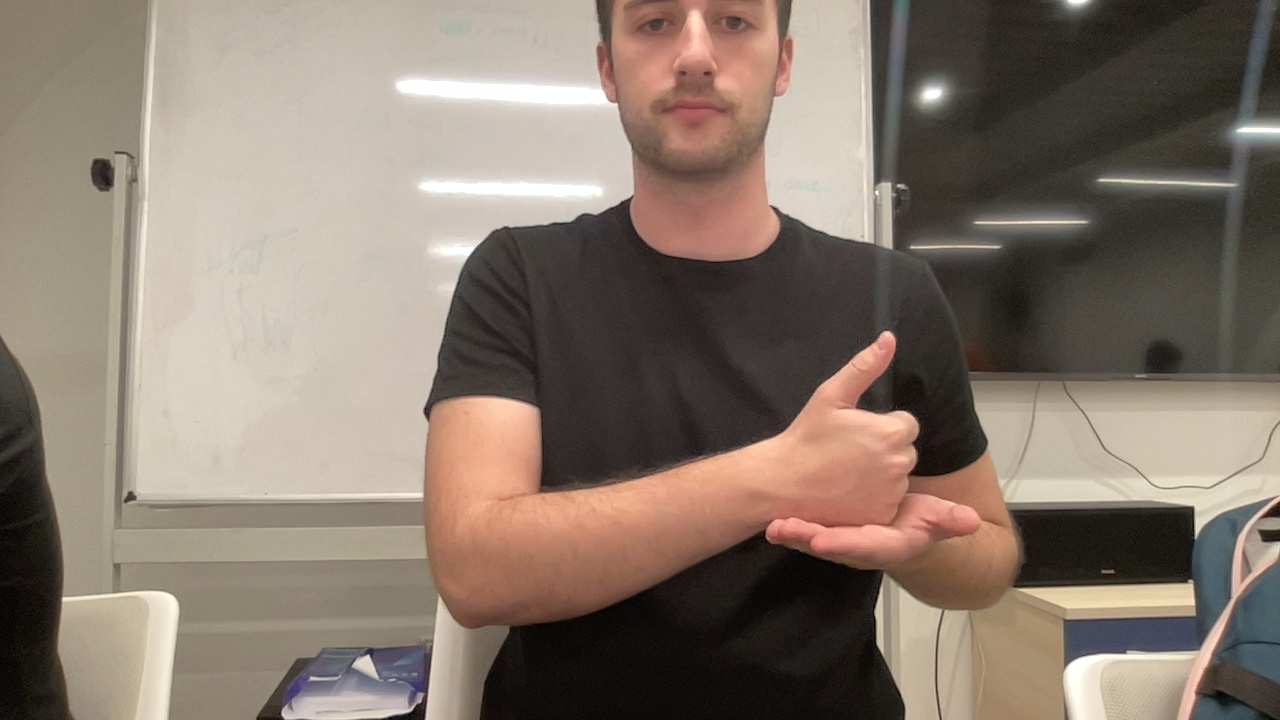Help: (755, 324, 986, 581)
